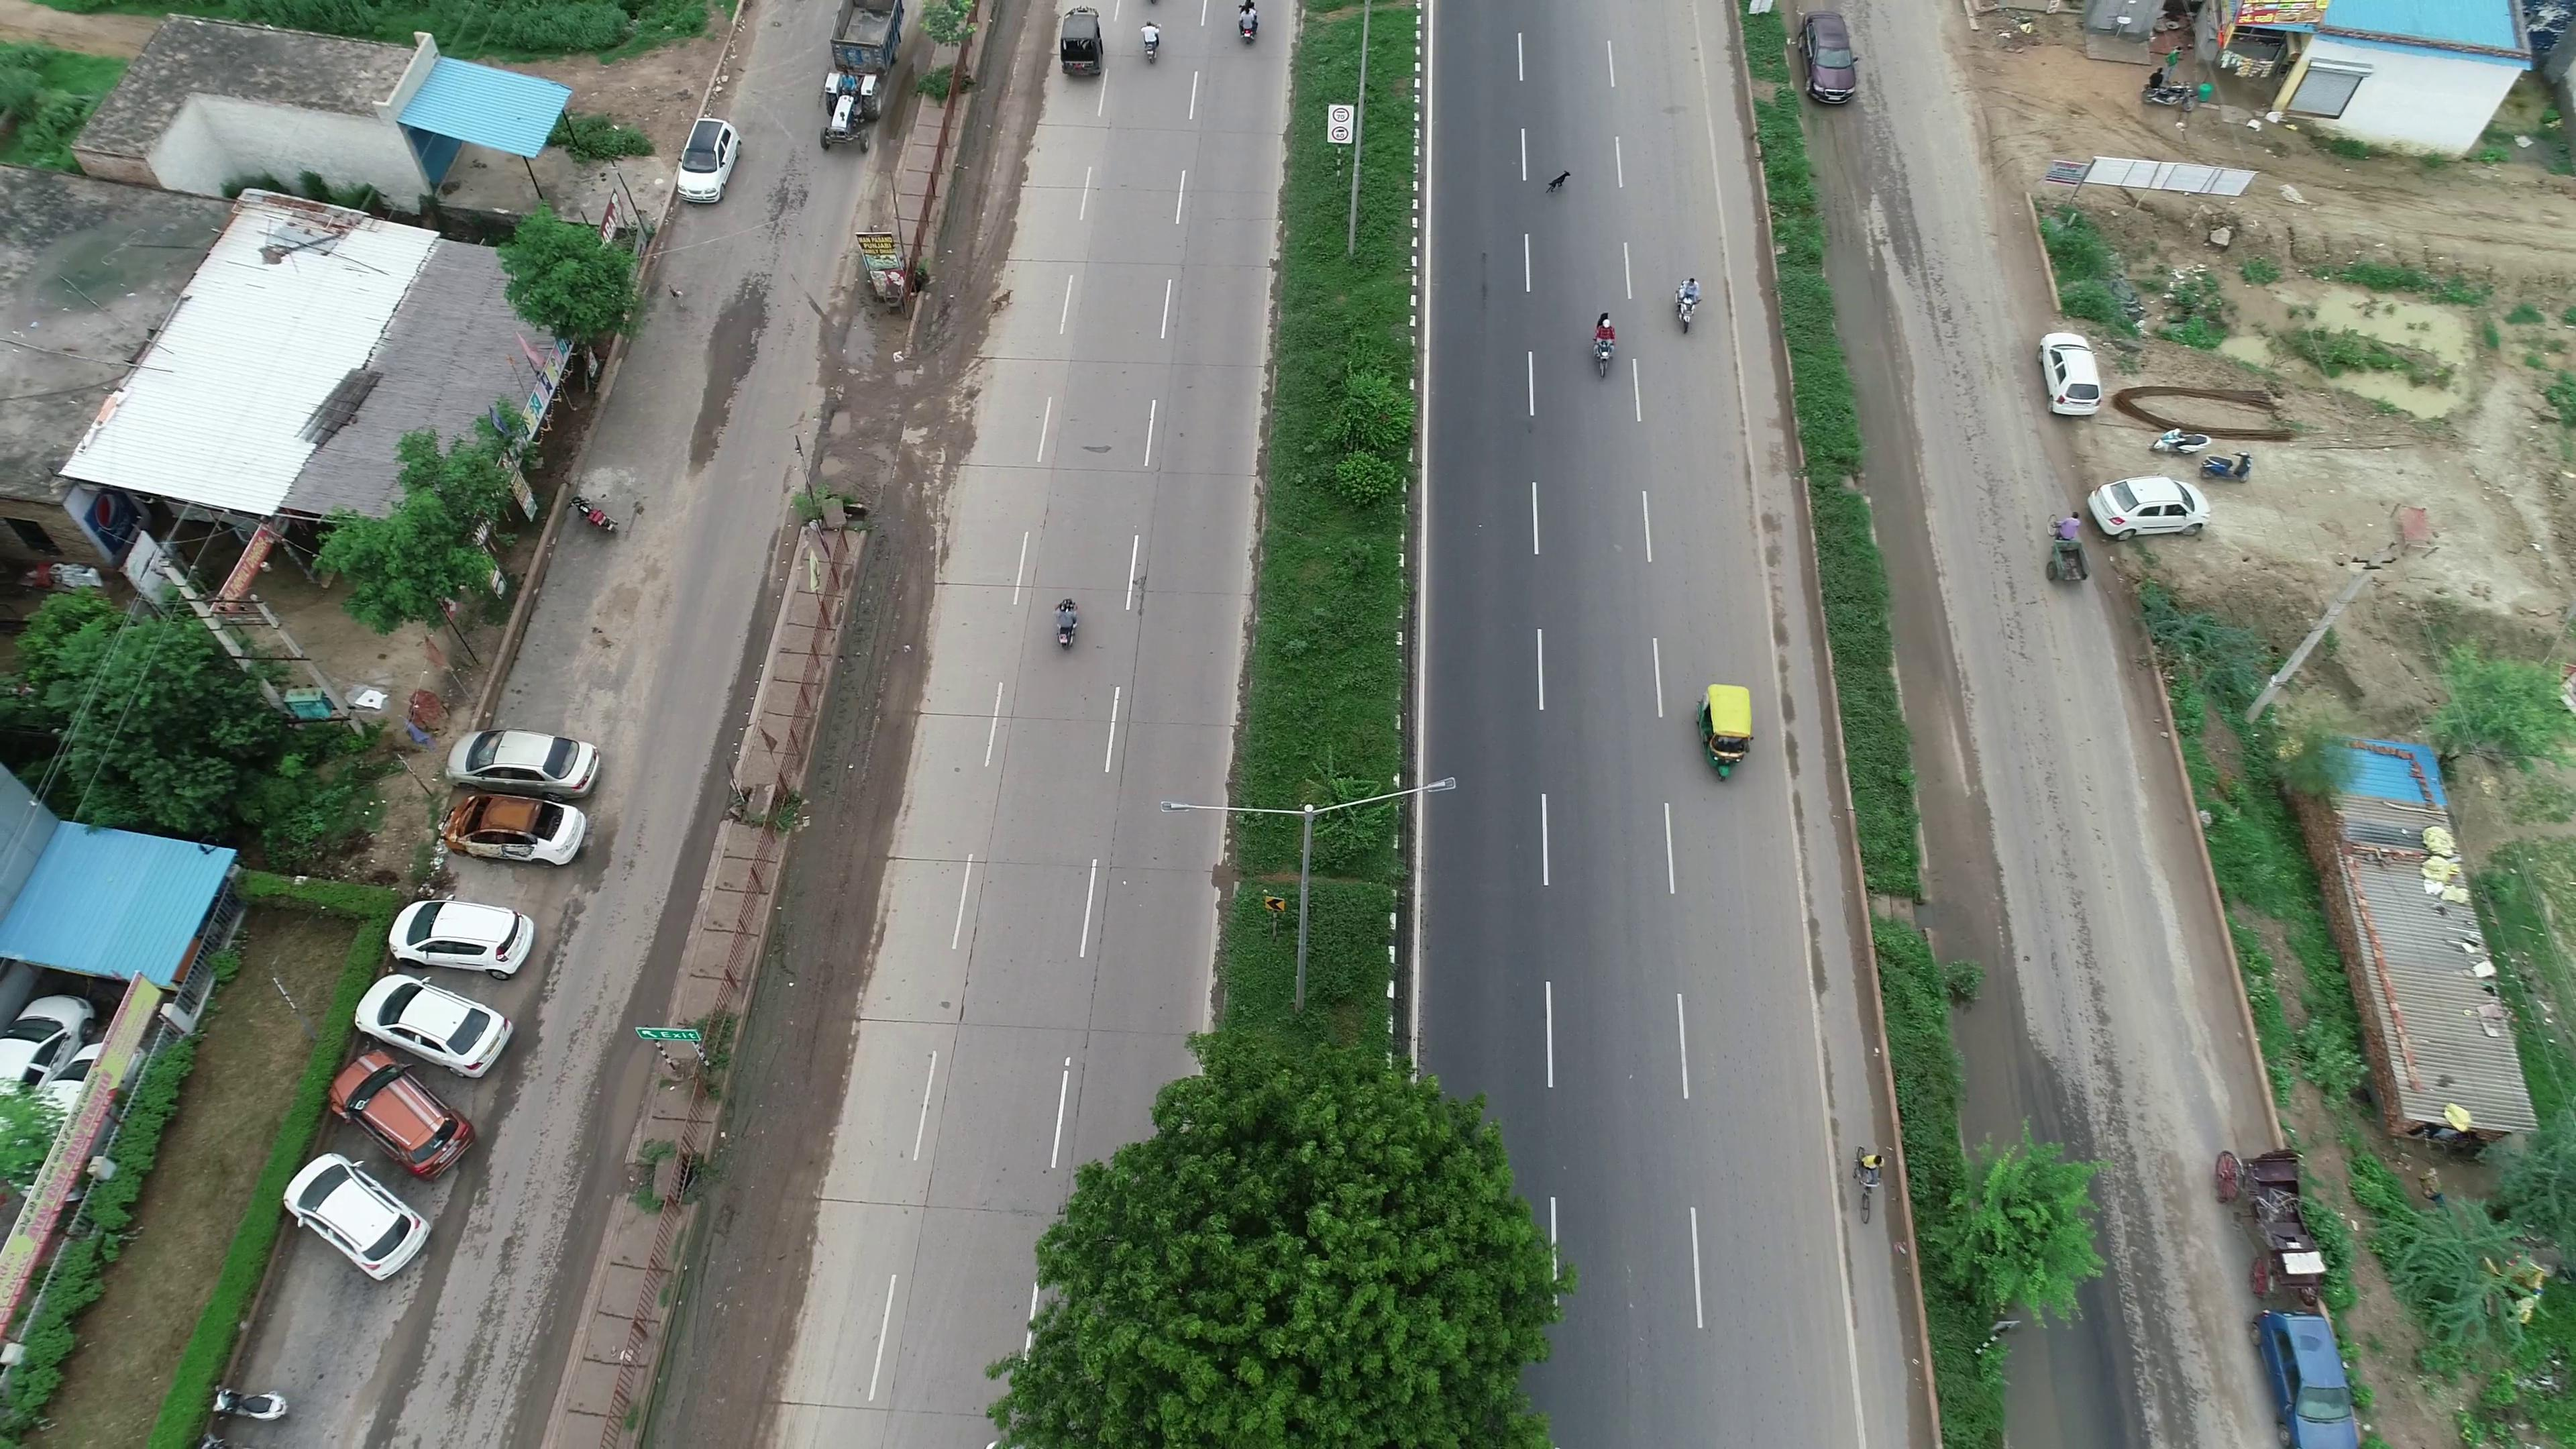Muddy_road: (678, 1118, 844, 1430), (789, 563, 922, 830), (738, 855, 879, 1102)
